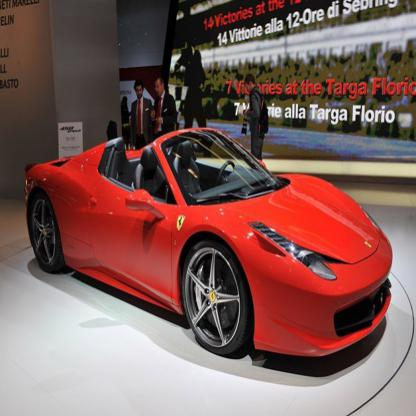Vehicle: (24, 126, 395, 356)
